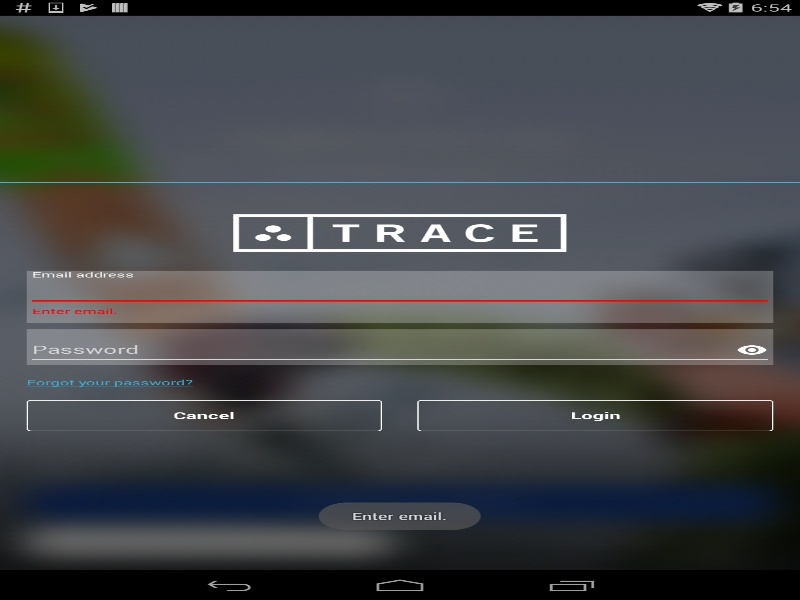Button: (26, 400, 382, 431), (417, 400, 773, 431), (730, 336, 773, 364)
Input: (26, 277, 773, 305), (26, 336, 773, 364)
